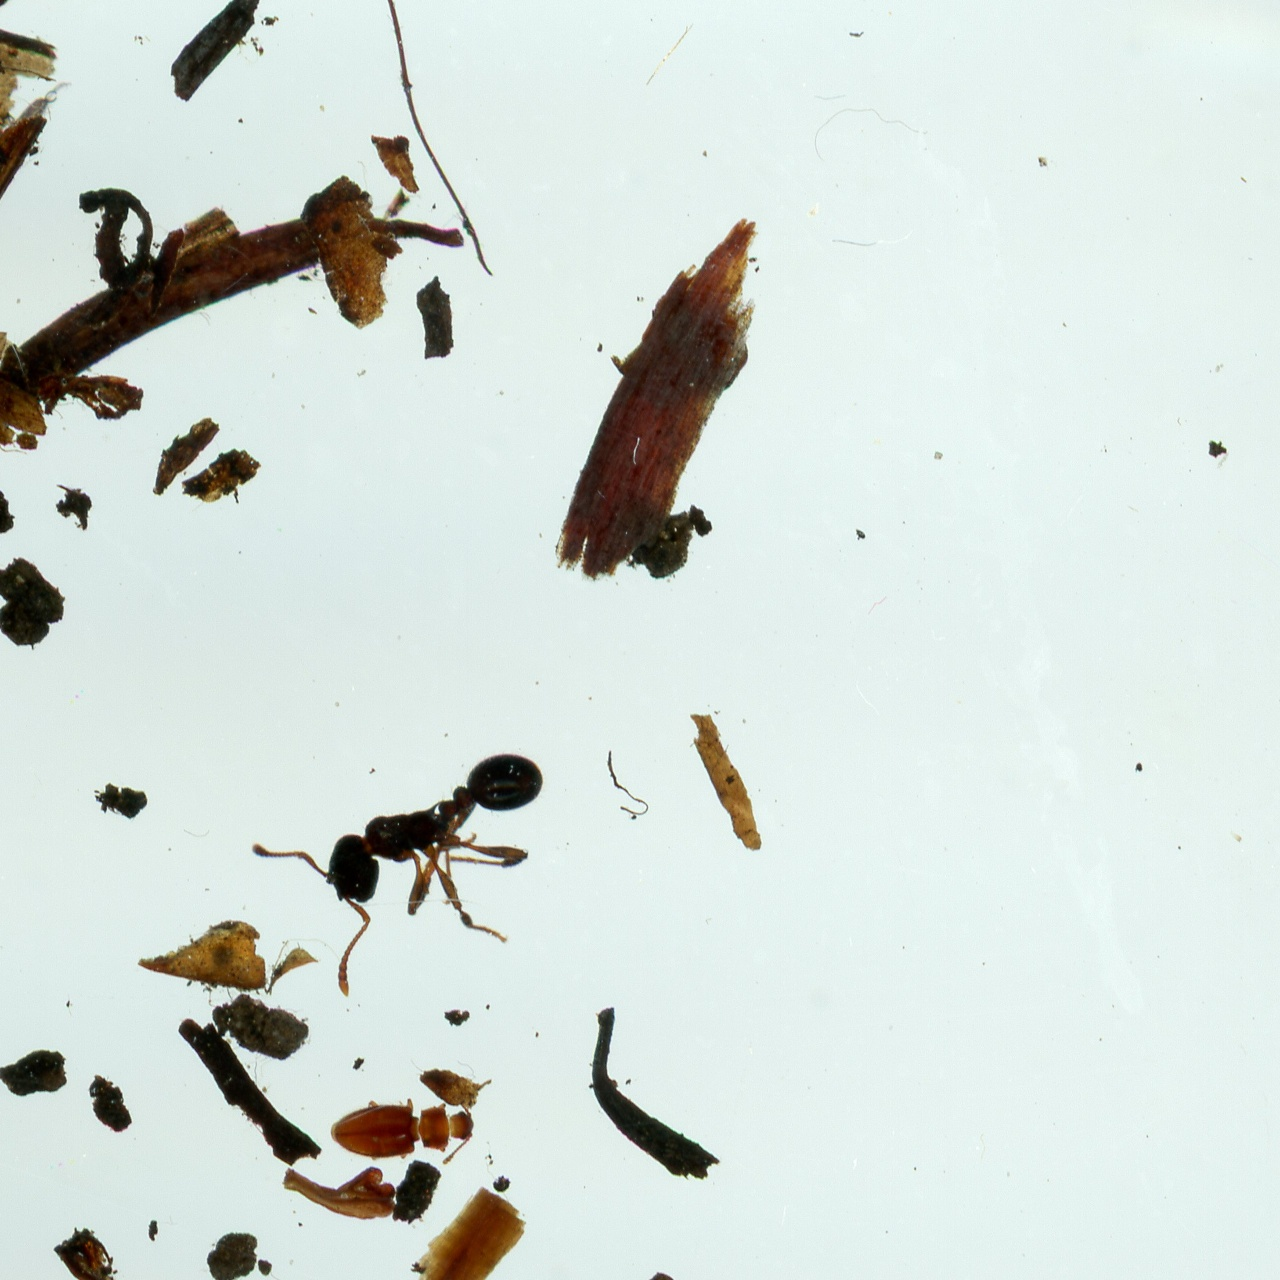arthropod: (243, 719, 612, 1029), (325, 1092, 477, 1169), (13, 64, 80, 138)
